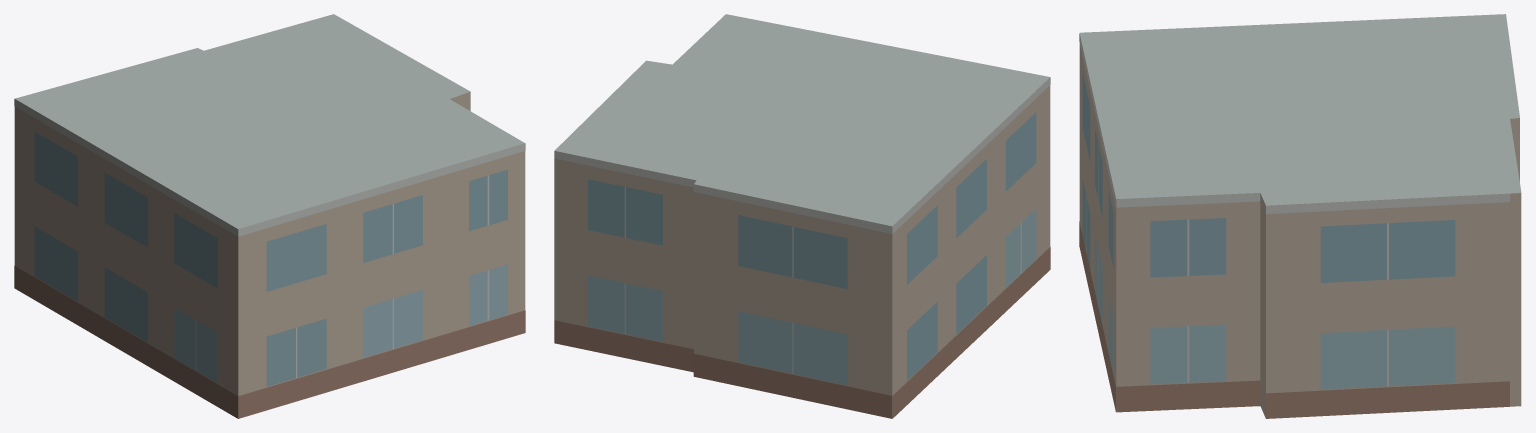
The model's file is survey-upis-33039139.glb.
The picture shows the model from 3 angles, left to right: view 1: azimuth 30°, elevation 25°; view 2: azimuth 150°, elevation 25°; view 3: azimuth 270°, elevation 25°; orthographic projection. The views are drawn at different scales.
Visible parts, largest first — view 1: survey-upis-33039139.tmp; view 2: survey-upis-33039139.tmp; view 3: survey-upis-33039139.tmp.
Part boxes in pixels (left/top/right/bottom): survey-upis-33039139.tmp: left=14, top=14, right=525, bottom=418; survey-upis-33039139.tmp: left=554, top=14, right=1050, bottom=418; survey-upis-33039139.tmp: left=1079, top=14, right=1521, bottom=418.
Size of the model in its own units: 11.77 by 6.1 by 11.47.
